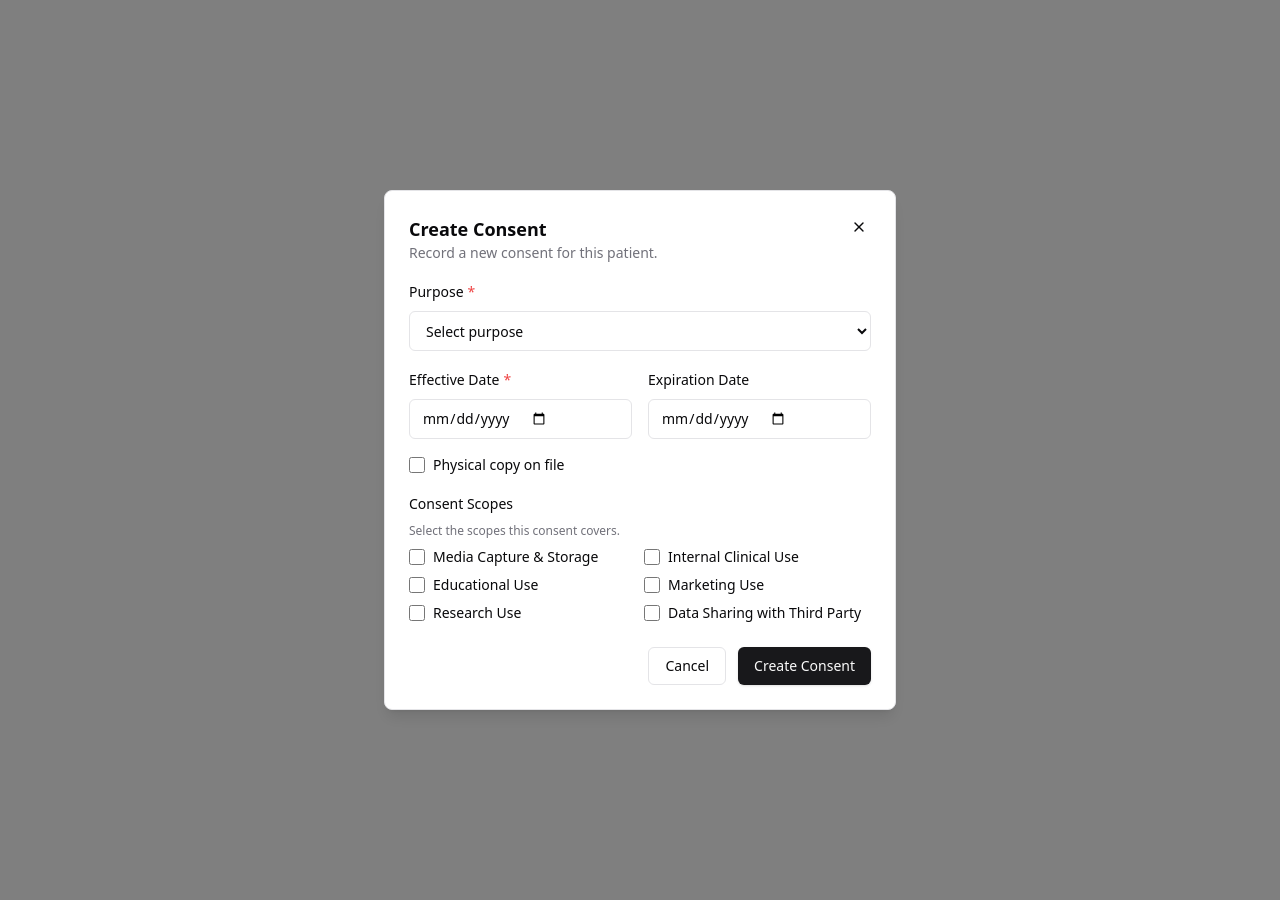
Test: ConsentCreateForm › shows validation error when purpose is empty on submit
Click the button "Create Consent": (804, 666) [738,647,871,685]
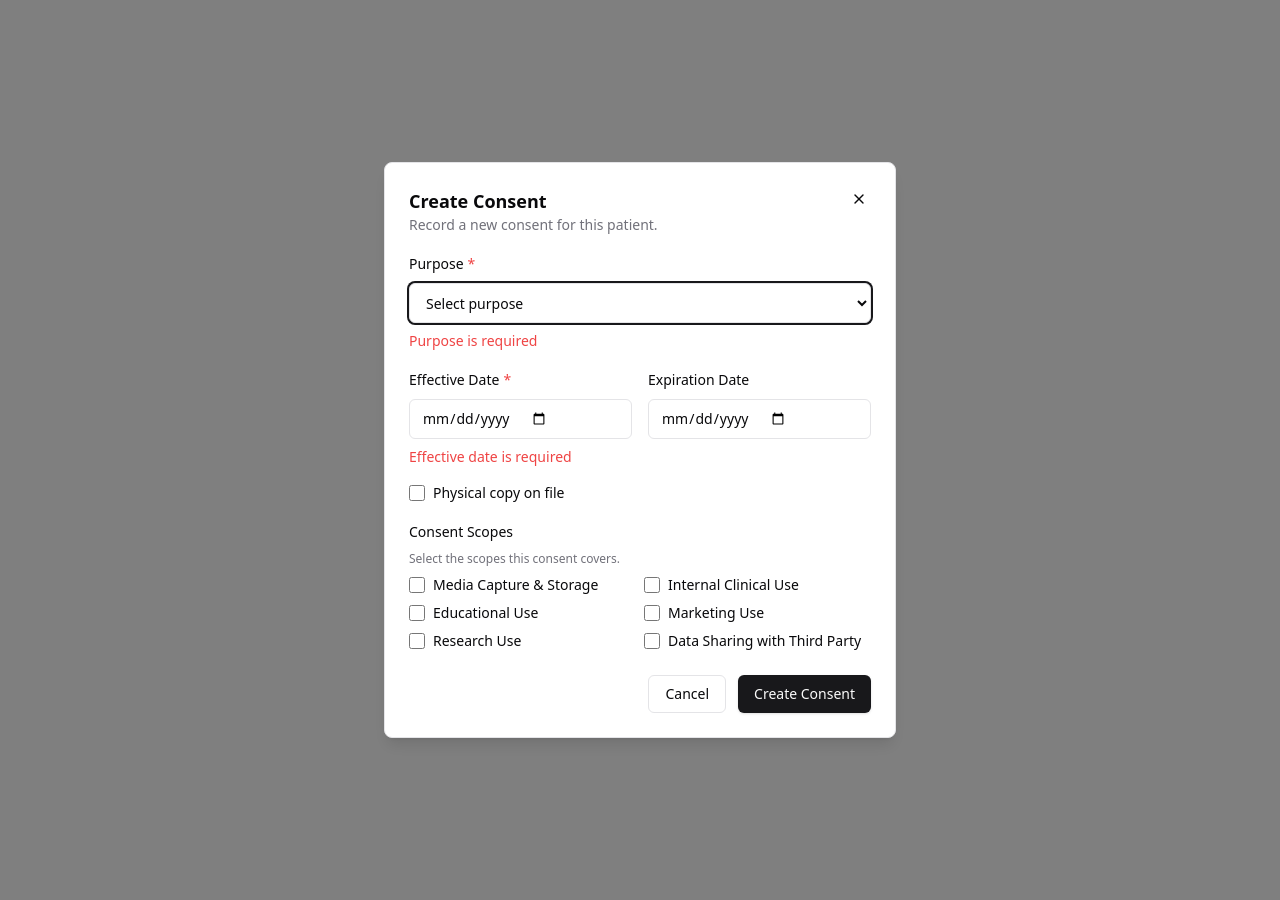
Check: the text "Purpose is required" is shown, box [409,331,538,350]
